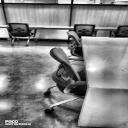chair_fail: (44, 48, 86, 114), (66, 31, 82, 57), (75, 24, 98, 36), (115, 26, 127, 38)
chair_success: (7, 23, 36, 46)
